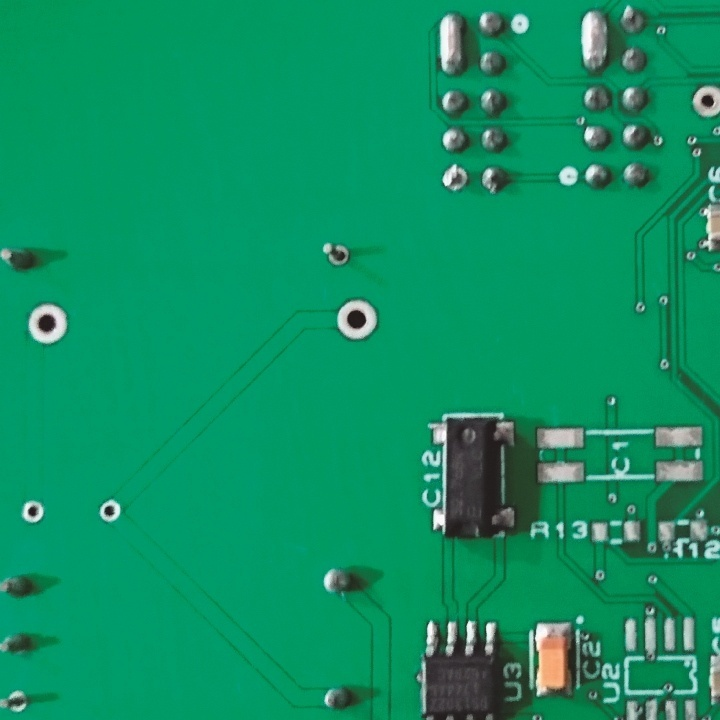F: (24, 304, 71, 349), (334, 298, 381, 343), (690, 83, 720, 123), (320, 240, 355, 272), (440, 158, 471, 193), (1, 686, 35, 716), (21, 500, 50, 529), (96, 499, 126, 527)
P: (435, 10, 469, 80), (579, 6, 611, 78)
